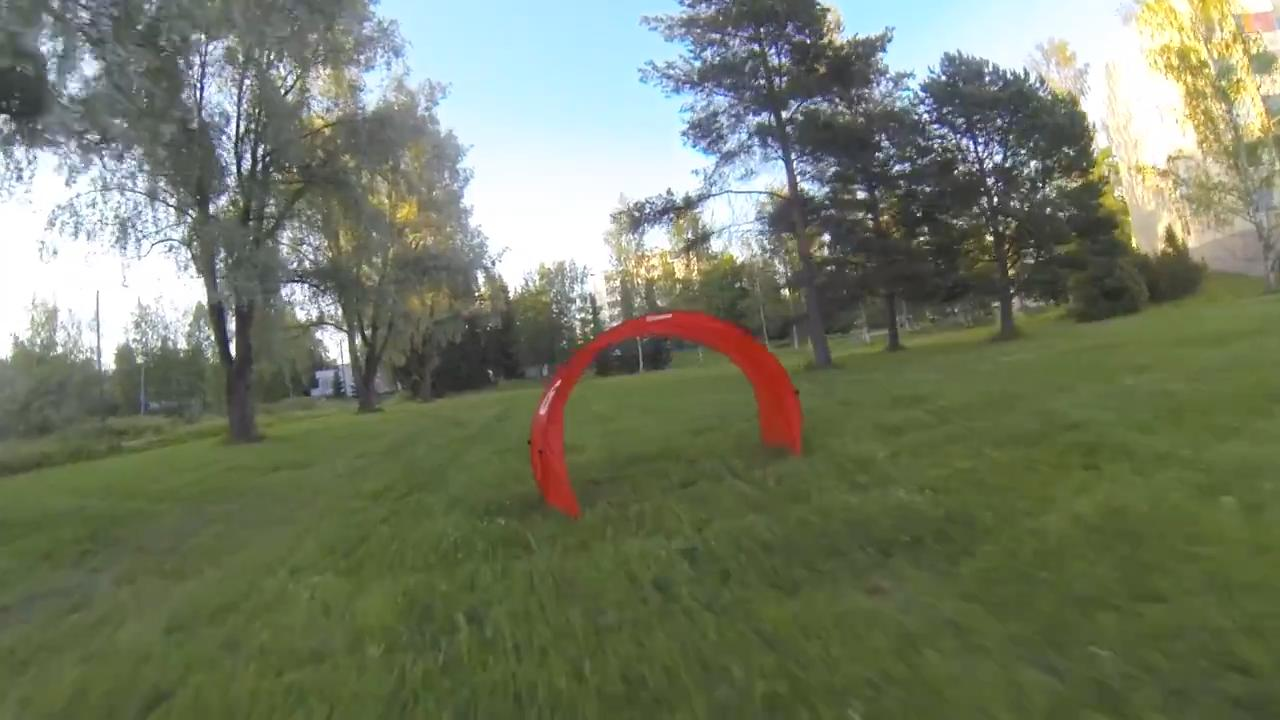gate: (528, 307, 804, 514)
